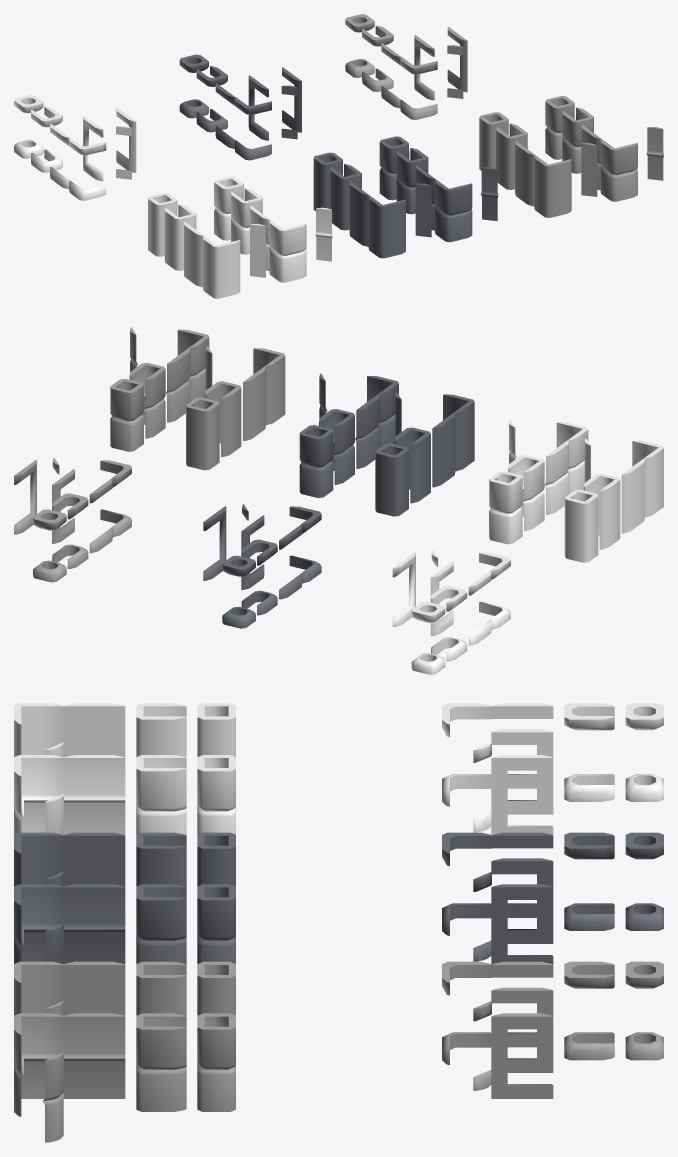
The model's file is MetalWallPanels.fbx.
3 renders of one model, top to bottom at view 1: azimuth 30°, elevation 25°; view 2: azimuth 150°, elevation 25°; view 3: azimuth 270°, elevation 25°, orthographic. The views are drawn at different scales.
Parts seen in each view (by area): view 1: MetalWallPanelL1, MetalWallPanelLightL1, MetalWallPanelDarkL1A, MetalWallPanelDarkL1TypeB, MetalWallPanelLightL1TypeB, MetalWallPanelL1TypeB, MetalWallPanelDarkU, MetalWallPanelU, MetalWallPanelLightU, MetalWallPanelUTypeB, MetalWallPanelLightUTypeB, MetalWallPanelOTypeB (+36 smaller); view 2: MetalWallPanelDarkO, MetalWallPanelOTypeB, MetalWallPanelLightO, MetalWallPanelO, MetalWallPanelDarkOTypeB, MetalWallPanelLightOTypeB, MetalWallPanelDarkU, MetalWallPanelLightU, MetalWallPanelDarkUTypeB, MetalWallPanelLightUTypeB, MetalWallPanelU, MetalWallPanelUTypeB (+30 smaller); view 3: MetalWallPanelLightITypeB, MetalWallPanelLightUTypeB, MetalWallPanelITypeB, MetalWallPanelDarkITypeB, MetalWallPanelUTypeB, MetalWallPanelDarkUTypeB, MetalWallPanelLightOTypeB, MetalWallPanelLightL1TypeB, MetalWallPanelLightI, MetalWallPanelI, MetalWallPanelDarkI, MetalWallPanelDarkL1TypeB (+33 smaller).
Boxes of the visible parts, left/top/right/bottom form: MetalWallPanelL1: left=368, top=195, right=405, bottom=258; MetalWallPanelLightL1: left=534, top=155, right=571, bottom=217; MetalWallPanelDarkL1A: left=203, top=236, right=240, bottom=298; MetalWallPanelDarkL1TypeB: left=269, top=219, right=306, bottom=282; MetalWallPanelLightL1TypeB: left=600, top=138, right=637, bottom=201; MetalWallPanelL1TypeB: left=435, top=179, right=472, bottom=242; MetalWallPanelDarkU: left=164, top=204, right=196, bottom=270; MetalWallPanelU: left=330, top=164, right=361, bottom=230; MetalWallPanelLightU: left=496, top=123, right=527, bottom=189; MetalWallPanelUTypeB: left=396, top=148, right=428, bottom=214; MetalWallPanelLightUTypeB: left=562, top=107, right=593, bottom=173; MetalWallPanelOTypeB: left=379, top=136, right=409, bottom=200; MetalWallPanelDarkO: left=564, top=489, right=598, bottom=562; MetalWallPanelOTypeB: left=299, top=425, right=333, bottom=497; MetalWallPanelLightO: left=186, top=397, right=219, bottom=470; MetalWallPanelO: left=375, top=443, right=408, bottom=516; MetalWallPanelDarkOTypeB: left=489, top=471, right=522, bottom=544; MetalWallPanelLightOTypeB: left=110, top=378, right=143, bottom=451; MetalWallPanelDarkU: left=584, top=473, right=620, bottom=549; MetalWallPanelLightU: left=205, top=381, right=241, bottom=457; MetalWallPanelDarkUTypeB: left=508, top=455, right=544, bottom=530; MetalWallPanelLightUTypeB: left=129, top=362, right=165, bottom=438; MetalWallPanelU: left=394, top=427, right=430, bottom=503; MetalWallPanelUTypeB: left=319, top=409, right=354, bottom=484; MetalWallPanelLightITypeB: left=63, top=1013, right=125, bottom=1098; MetalWallPanelLightUTypeB: left=136, top=1013, right=186, bottom=1111; MetalWallPanelITypeB: left=63, top=884, right=125, bottom=964; MetalWallPanelDarkITypeB: left=63, top=755, right=125, bottom=835; MetalWallPanelUTypeB: left=136, top=884, right=186, bottom=964; MetalWallPanelDarkUTypeB: left=136, top=755, right=186, bottom=835; MetalWallPanelLightOTypeB: left=197, top=1013, right=235, bottom=1111; MetalWallPanelLightL1TypeB: left=14, top=1013, right=63, bottom=1116; MetalWallPanelLightI: left=63, top=961, right=125, bottom=1015; MetalWallPanelI: left=63, top=832, right=125, bottom=886; MetalWallPanelDarkI: left=63, top=703, right=125, bottom=757; MetalWallPanelDarkL1TypeB: left=14, top=755, right=63, bottom=834.
Bounding box in the file's own units: 13.82 × 1.49 × 10.63.
